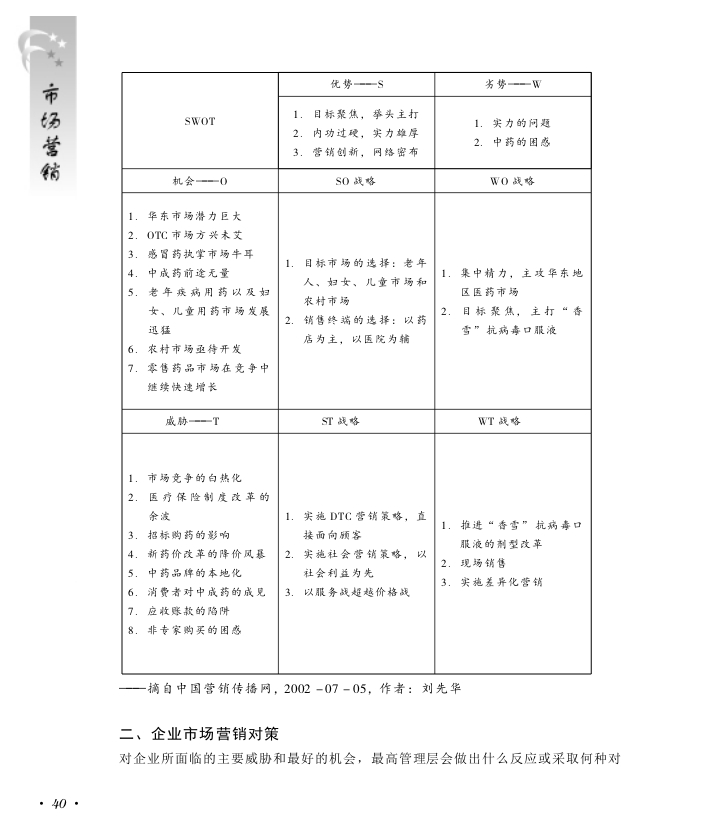table: (122, 71, 592, 675)
